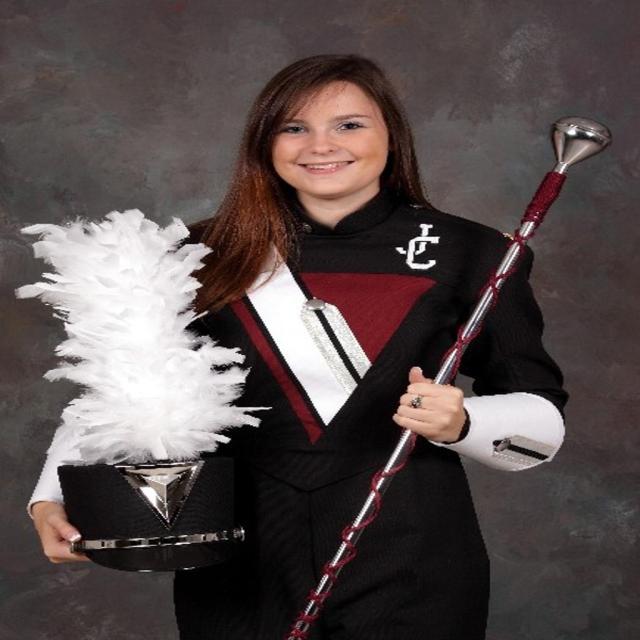Face: (245, 81, 404, 220)
